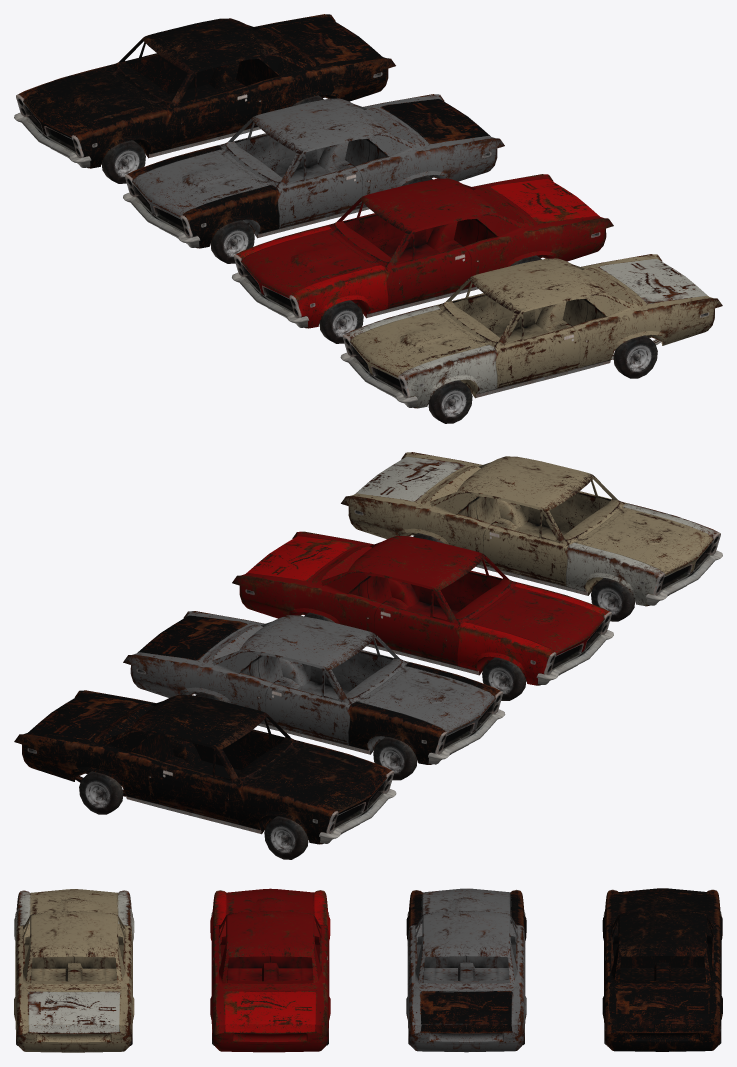
3 views of the same model, one above another, from view 1: azimuth 30°, elevation 25°; view 2: azimuth 150°, elevation 25°; view 3: azimuth 270°, elevation 25° (orthographic). The views are drawn at different scales.
Visible parts, largest first — view 1: rustcar_gto_yellow_rustcar_gto_yellow_0, rustcar_gto_gray_rustcar_gto_gray_0, rustcar_gto_black_rustcar_gto_black_0, rustcar_gto_red_rustcar_gto_red_0; view 2: rustcar_gto_black_rustcar_gto_black_0, rustcar_gto_red_rustcar_gto_red_0, rustcar_gto_gray_rustcar_gto_gray_0, rustcar_gto_yellow_rustcar_gto_yellow_0; view 3: rustcar_gto_gray_rustcar_gto_gray_0, rustcar_gto_red_rustcar_gto_red_0, rustcar_gto_black_rustcar_gto_black_0, rustcar_gto_yellow_rustcar_gto_yellow_0.
Boxes of the visible parts, left/top/right/bottom form: rustcar_gto_yellow_rustcar_gto_yellow_0: left=340, top=254, right=722, bottom=423; rustcar_gto_gray_rustcar_gto_gray_0: left=123, top=94, right=504, bottom=263; rustcar_gto_black_rustcar_gto_black_0: left=14, top=14, right=395, bottom=183; rustcar_gto_red_rustcar_gto_red_0: left=232, top=174, right=613, bottom=343; rustcar_gto_black_rustcar_gto_black_0: left=14, top=690, right=396, bottom=859; rustcar_gto_red_rustcar_gto_red_0: left=232, top=531, right=613, bottom=700; rustcar_gto_gray_rustcar_gto_gray_0: left=123, top=611, right=505, bottom=780; rustcar_gto_yellow_rustcar_gto_yellow_0: left=341, top=452, right=722, bottom=621; rustcar_gto_gray_rustcar_gto_gray_0: left=406, top=888, right=526, bottom=1052; rustcar_gto_red_rustcar_gto_red_0: left=210, top=888, right=330, bottom=1052; rustcar_gto_black_rustcar_gto_black_0: left=602, top=888, right=722, bottom=1051; rustcar_gto_yellow_rustcar_gto_yellow_0: left=14, top=889, right=134, bottom=1052.
Size of the model in its own units: 520 by 143 by 1084.
4 materials, 4 textured.
